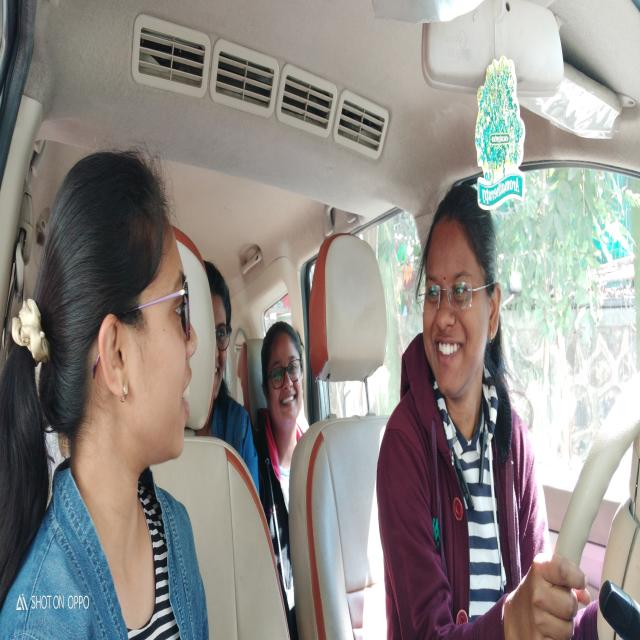LeftRight: (422, 181, 501, 396)
person: (51, 149, 194, 471), (259, 315, 306, 440), (205, 259, 234, 421)
talking: (434, 336, 466, 364), (180, 366, 193, 429)
